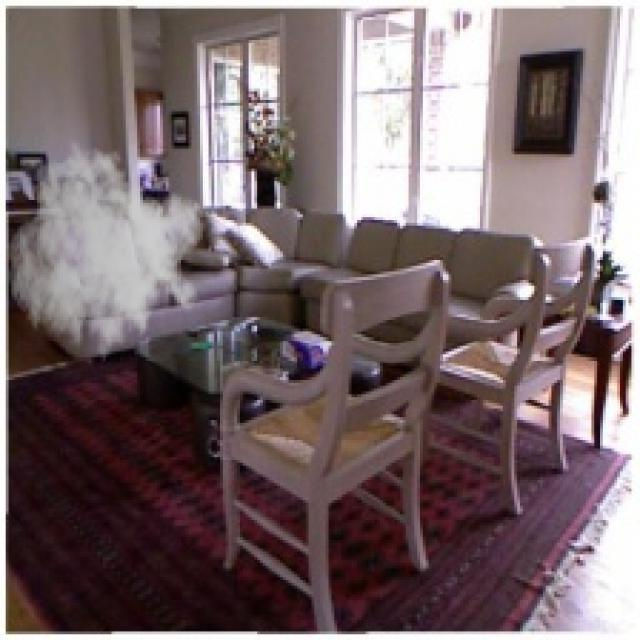Smoke: (6, 140, 206, 374)
